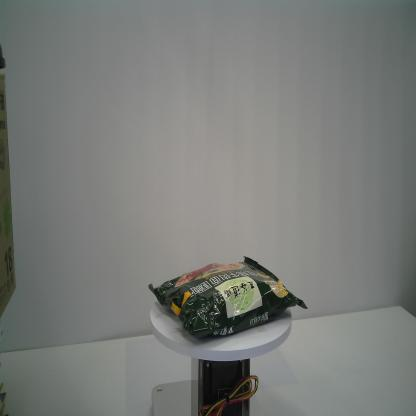Instant Noodles: (148, 254, 308, 340)
